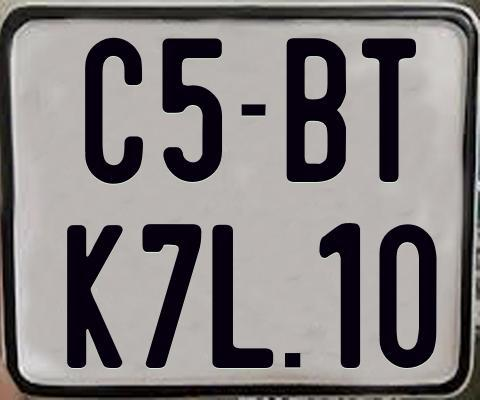0: (377, 222, 435, 369)
1: (318, 222, 361, 367)
5: (161, 35, 224, 185)
7: (139, 224, 201, 370)
B: (283, 36, 343, 181)
C: (82, 37, 140, 186)
K: (65, 222, 125, 369)
L: (212, 224, 274, 370)
T: (362, 38, 416, 185)
